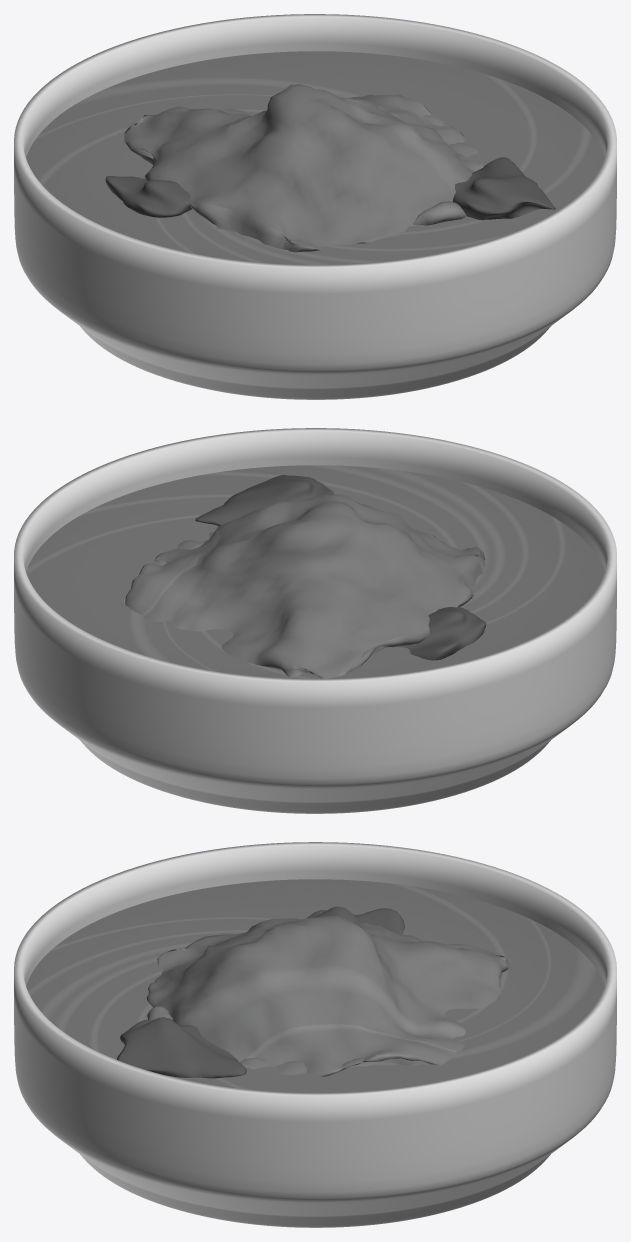
Rendered from mangkok_mixture.fbx.
3 views of the same model, one above another, from view 1: azimuth 30°, elevation 25°; view 2: azimuth 150°, elevation 25°; view 3: azimuth 270°, elevation 25° (orthographic).
Visible parts, largest first — view 1: bowl, Circle.001, Cube.005, Cube.002, Cube.004; view 2: bowl, Circle.001, Cube.005, Cube.002, Cube.004; view 3: bowl, Circle.001, Cube.005, Cube.002, Cube.004.
Boxes of the visible parts, box(x1,y1,x2,y2) form: bowl: box(14, 14, 616, 399); Circle.001: box(26, 51, 604, 264); Cube.005: box(119, 84, 483, 252); Cube.002: box(452, 157, 555, 220); Cube.004: box(105, 176, 192, 217); bowl: box(14, 428, 616, 813); Circle.001: box(26, 465, 604, 678); Cube.005: box(122, 493, 485, 678); Cube.002: box(195, 475, 333, 526); Cube.004: box(386, 607, 486, 660); bowl: box(14, 842, 616, 1227); Circle.001: box(26, 879, 604, 1092); Cube.005: box(146, 916, 512, 1076); Cube.002: box(117, 1017, 246, 1078); Cube.004: box(307, 906, 404, 934).
Size of the model in its own units: 81.36 by 29.62 by 81.36.
3 materials, 1 textured.
